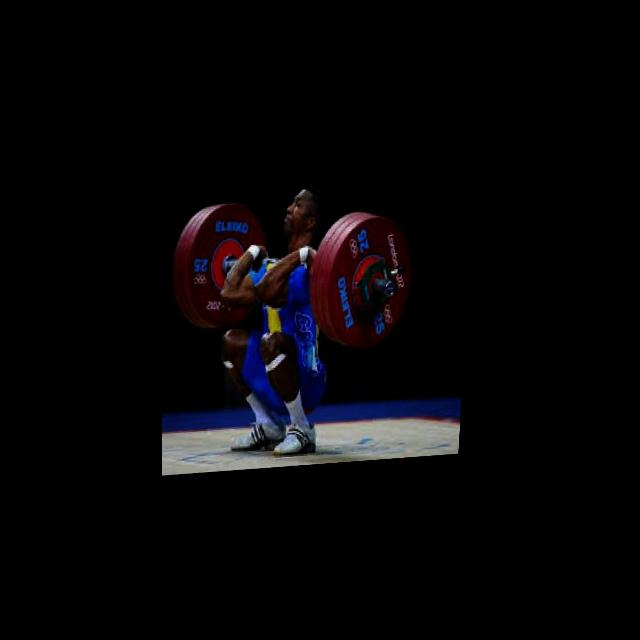barbell: (323, 216, 418, 353)
